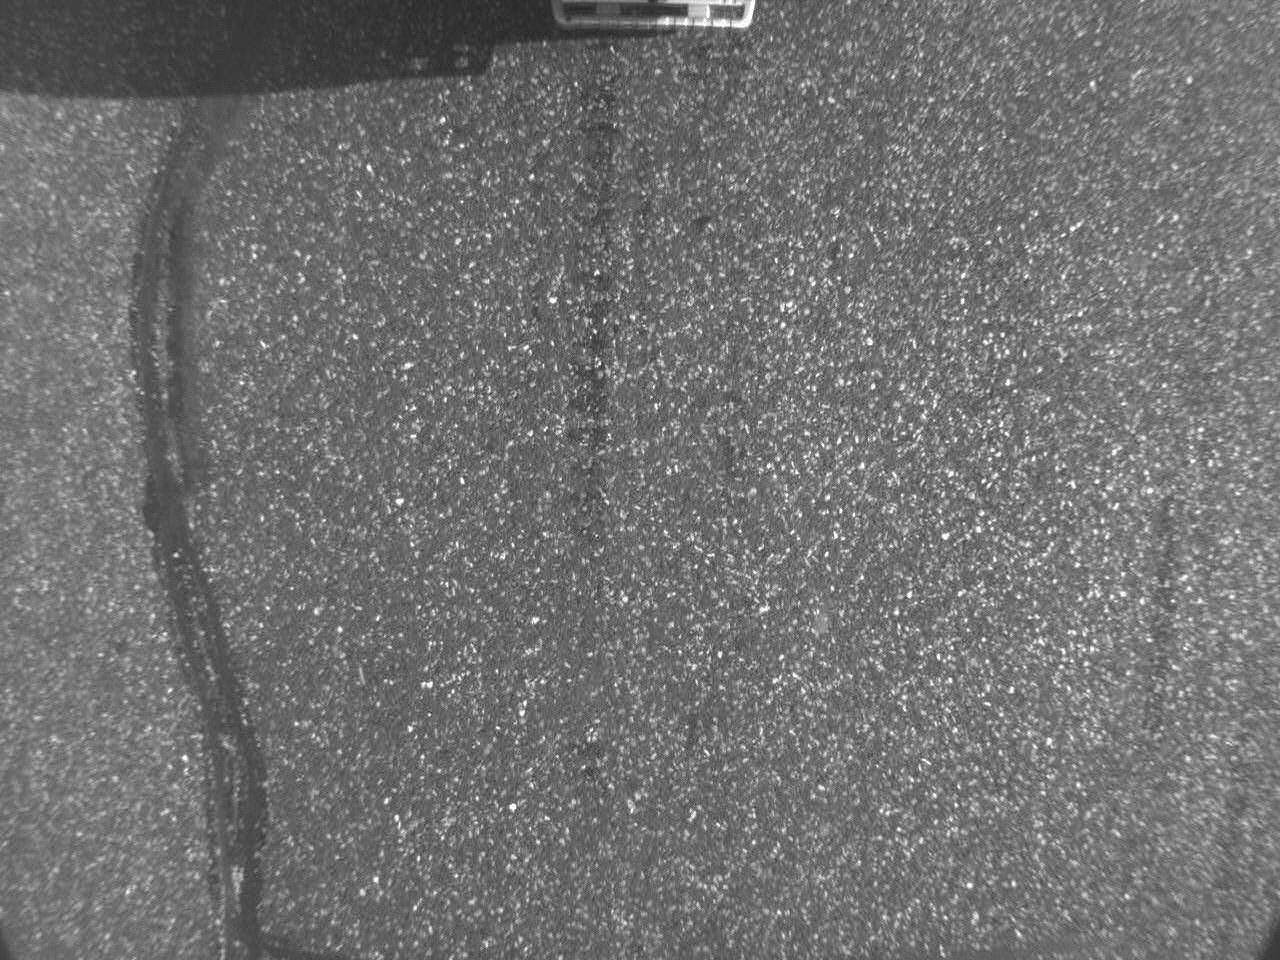sealed: (105, 119, 307, 949)
